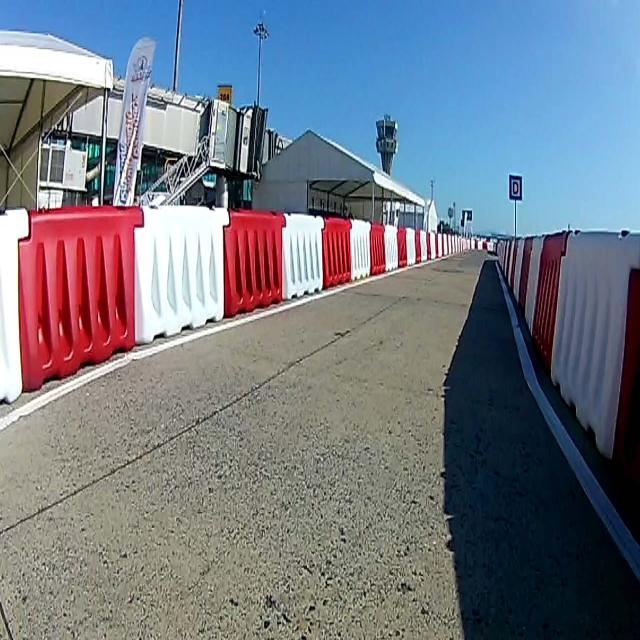durak: (508, 171, 522, 201)
